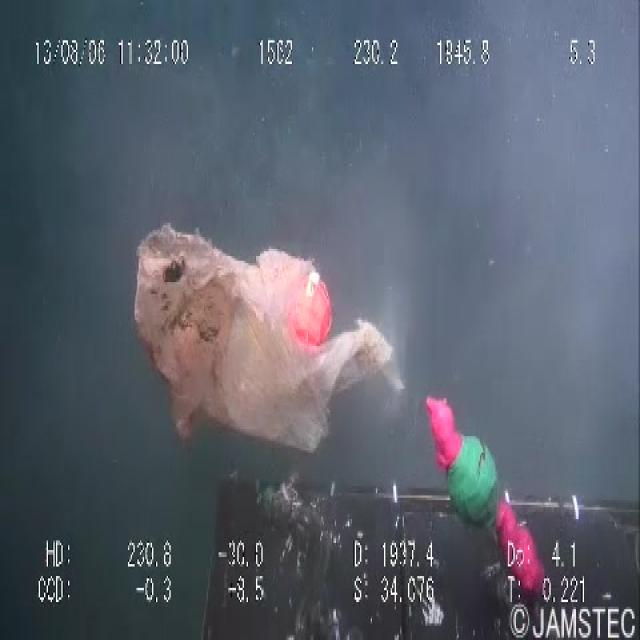plastic: (121, 211, 418, 472)
